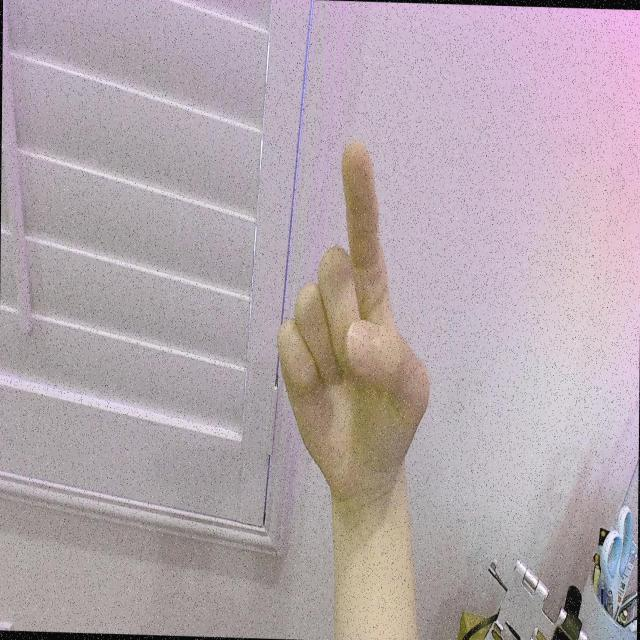Z: (274, 127, 434, 507)
